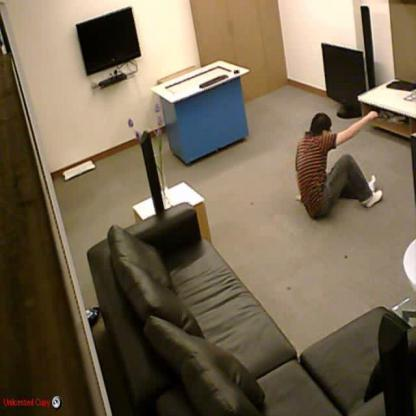Person: (294, 111, 384, 220)
